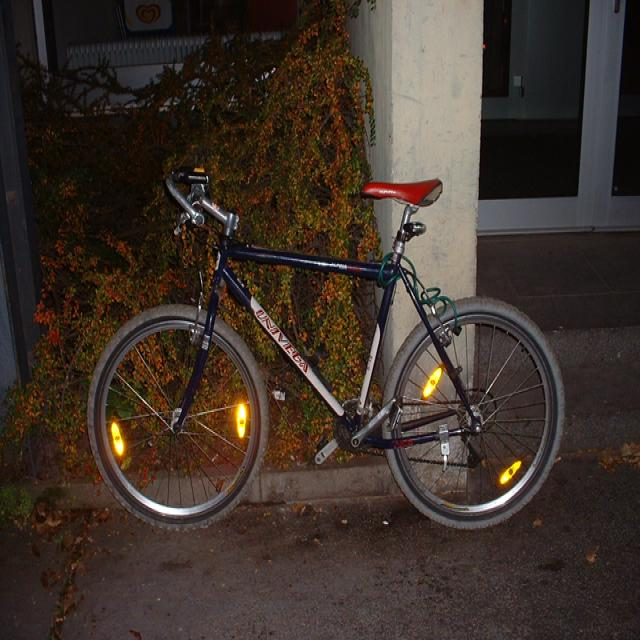bicycle: (86, 164, 566, 531)
